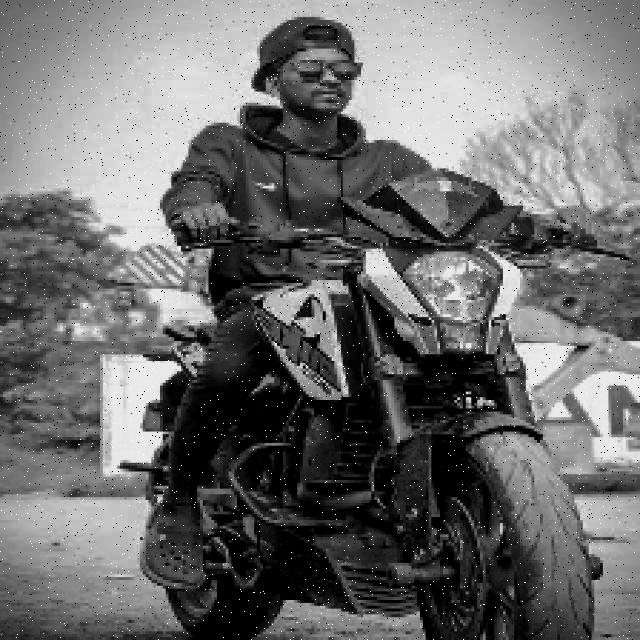Bike: (123, 244, 599, 640)
